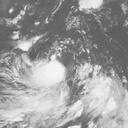cyclone: (32, 58, 65, 89)
